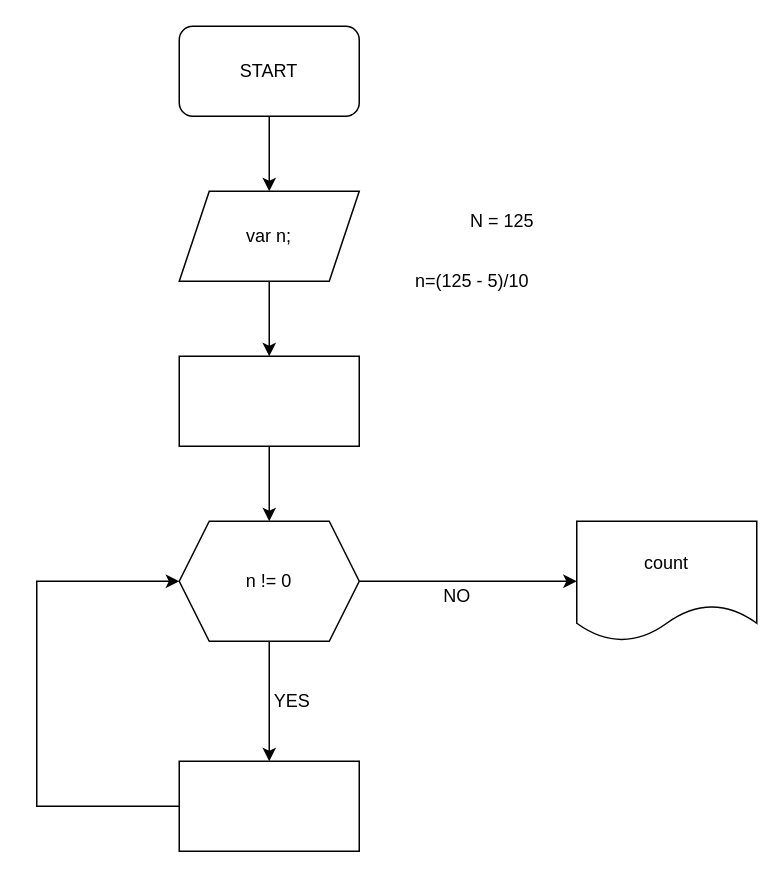
Image size: 783x878. Some labels were removed from this diagram. The shapes that lost their labels are listed below. From the top down, each one's box as (x1, y1, x2, y2) in pixels, then its label:
(178, 355, 359, 446): count = 0
(178, 760, 359, 851): n = (n-n%10)/10 count++
